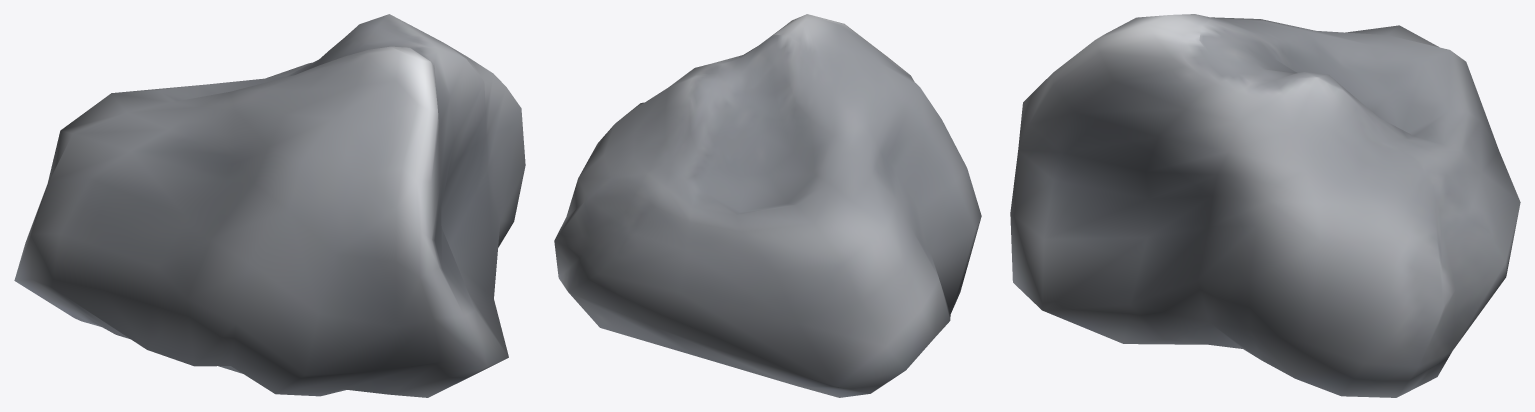
File: Rock2.fbx
The picture shows the model from 3 angles, left to right: view 1: azimuth 30°, elevation 25°; view 2: azimuth 150°, elevation 25°; view 3: azimuth 270°, elevation 25°; orthographic projection. The views are drawn at different scales.
Parts seen in each view (by area): view 1: Rock2_LOD0; view 2: Rock2_LOD0; view 3: Rock2_LOD0.
Boxes of the visible parts, x1,y1,x2,y2 form: Rock2_LOD0: [14, 14, 525, 397]; Rock2_LOD0: [554, 14, 981, 397]; Rock2_LOD0: [1010, 14, 1520, 397].
Size of what is drawn, in the model's own units: 2.36 by 1.69 by 2.31.
Materials: 1 (1 with a texture image).
